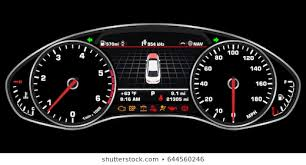Digital_Meter: (120, 89, 192, 115)
